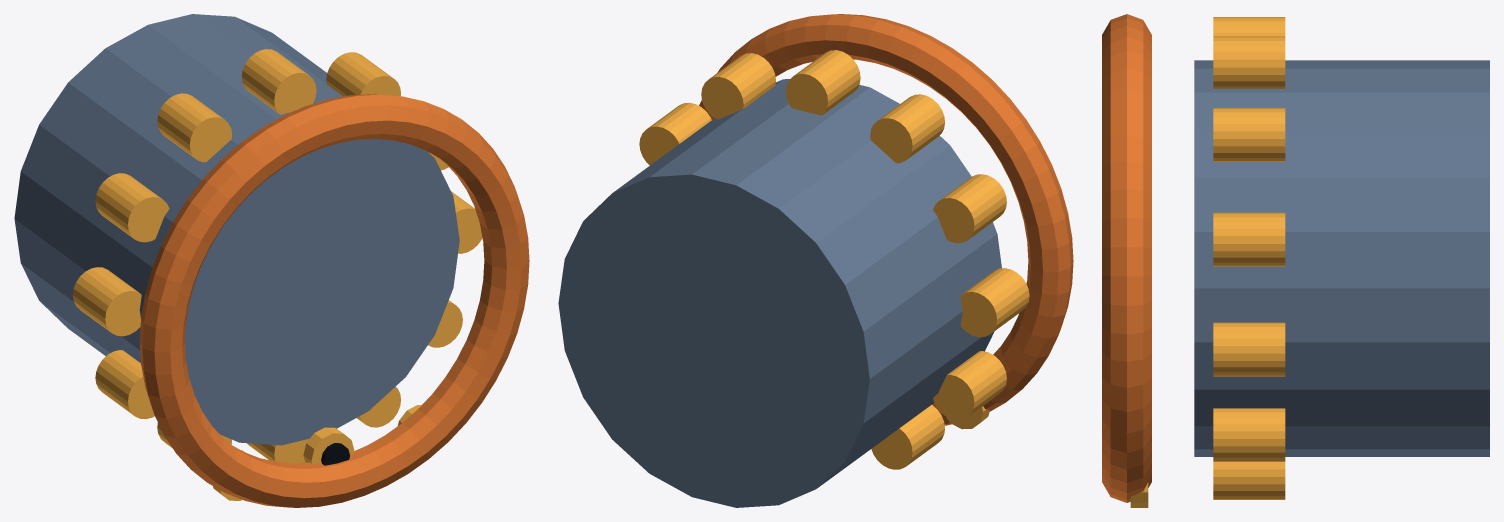
Rendered from 37_L90_XenonAnodeDistributor.fbx.
3 renders of one model, left to right at view 1: azimuth 30°, elevation 25°; view 2: azimuth 150°, elevation 25°; view 3: azimuth 270°, elevation 25°, orthographic. The views are drawn at different scales.
Parts seen in each view (by area): view 1: L90_XenonAnodeDistributor, L90_XenonAnodeDistributor_Part_0002, L90_XenonAnodeDistributor_Part_0005; view 2: L90_XenonAnodeDistributor, L90_XenonAnodeDistributor_Part_0002; view 3: L90_XenonAnodeDistributor, L90_XenonAnodeDistributor_Part_0002.
Part boxes in pixels (left/top/right/bottom): L90_XenonAnodeDistributor: left=14, top=14, right=482, bottom=463; L90_XenonAnodeDistributor_Part_0002: left=139, top=94, right=529, bottom=507; L90_XenonAnodeDistributor_Part_0005: left=303, top=427, right=354, bottom=463; L90_XenonAnodeDistributor: left=558, top=50, right=1029, bottom=507; L90_XenonAnodeDistributor_Part_0002: left=699, top=14, right=1073, bottom=425; L90_XenonAnodeDistributor: left=1194, top=17, right=1489, bottom=499; L90_XenonAnodeDistributor_Part_0002: left=1102, top=14, right=1151, bottom=502.
Size of the model in its own units: 116 by 116 by 91.91.
